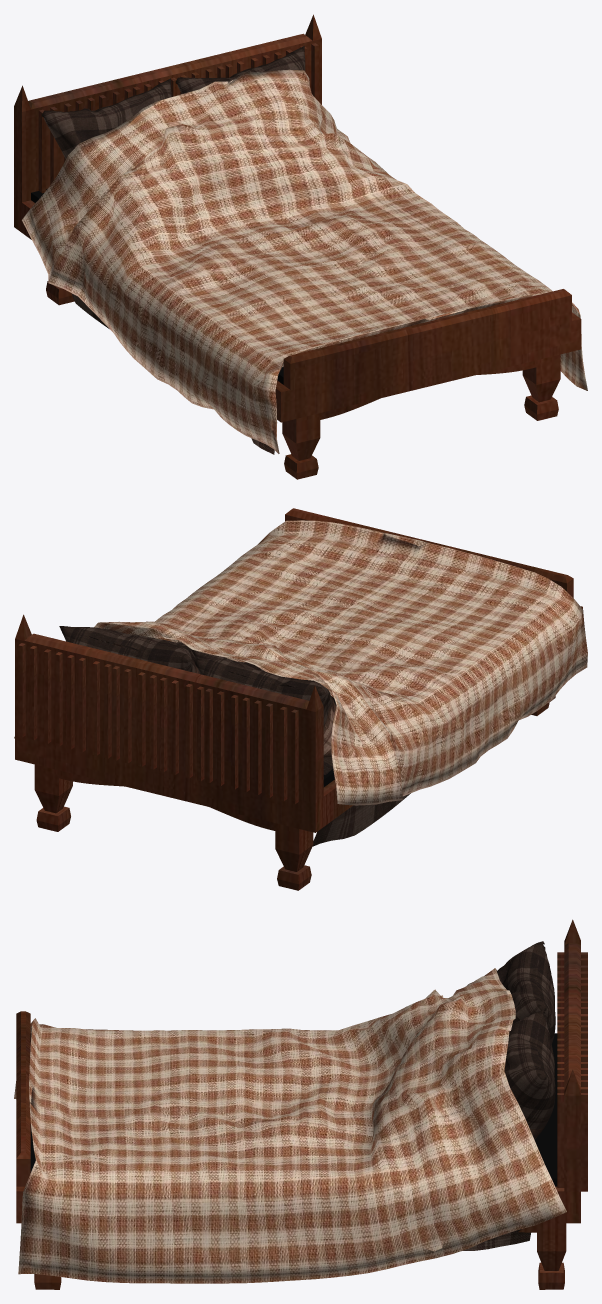
The model's file is ParentRoom_Bed.fbx.
The picture shows the model from 3 angles, top to bottom: view 1: azimuth 30°, elevation 25°; view 2: azimuth 150°, elevation 25°; view 3: azimuth 270°, elevation 25°; orthographic projection. The views are drawn at different scales.
Parts seen in each view (by area): view 1: матрас; view 2: матрас; view 3: матрас.
Boxes of the visible parts, x1,y1,x2,y2 form: матрас: [14, 14, 587, 479]; матрас: [14, 508, 587, 890]; матрас: [14, 919, 587, 1289].
Size of the model in its own units: 493 by 291 by 671.
